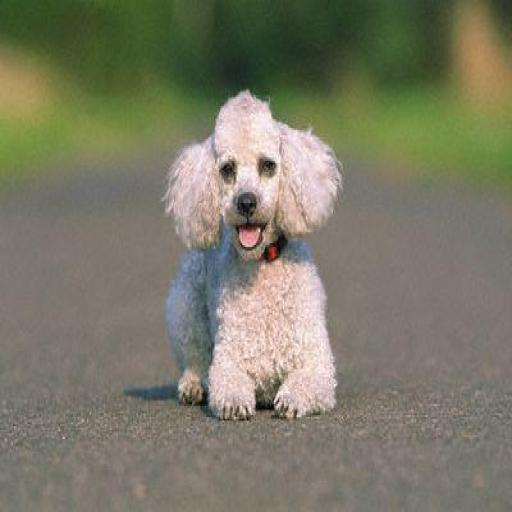dog_face: (165, 92, 346, 250)
